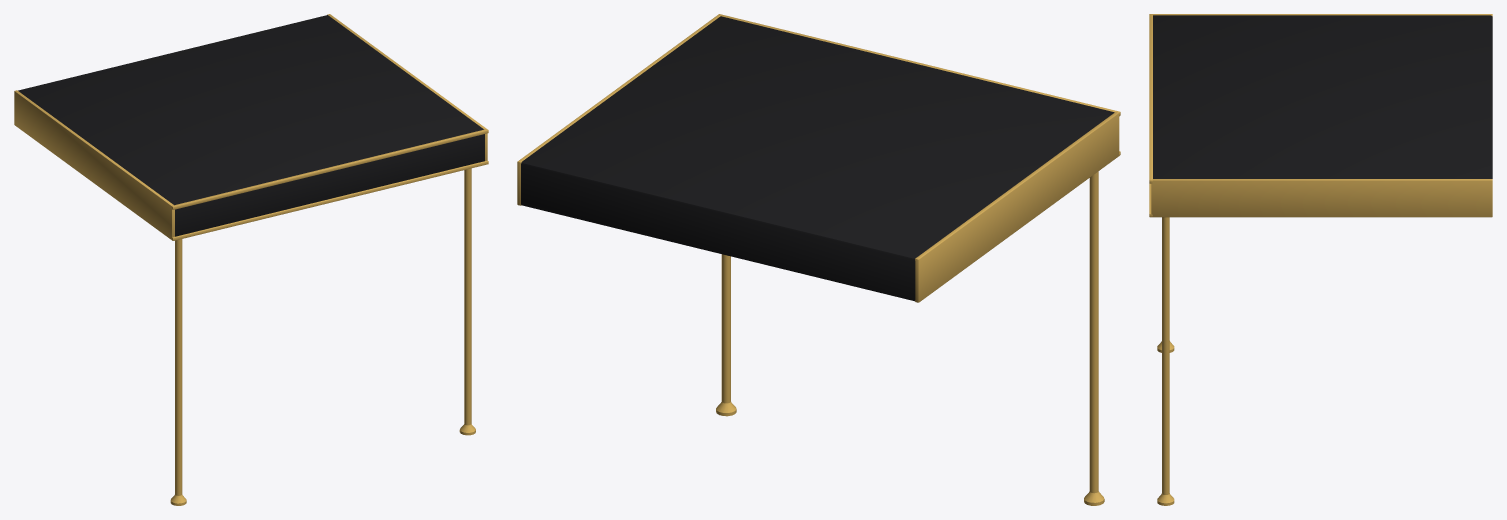
The model's file is canopy.glb.
3 renders of one model, left to right at view 1: azimuth 30°, elevation 25°; view 2: azimuth 150°, elevation 25°; view 3: azimuth 270°, elevation 25°, orthographic. The views are drawn at different scales.
Parts seen in each view (by area): view 1: canopy; view 2: canopy; view 3: canopy.
Boxes of the visible parts, x1,y1,x2,y2 form: canopy: [14, 14, 488, 505]; canopy: [517, 14, 1120, 505]; canopy: [1149, 14, 1492, 505].
Bounding box in the file's own units: 4.04 × 3.72 × 3.52.
